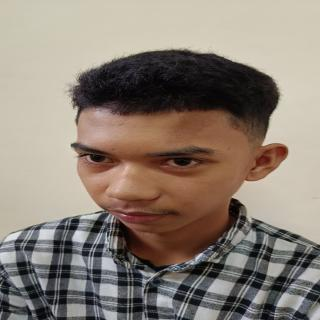Marah: (74, 100, 257, 237)
